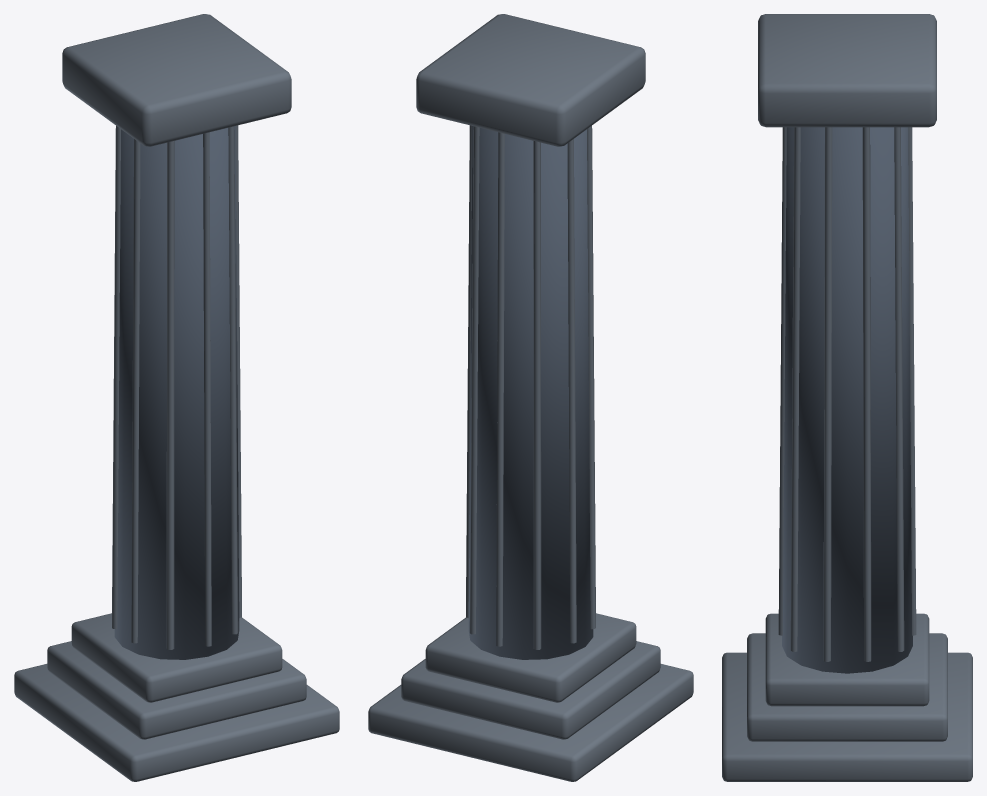
Rendered from prop-0-refined-v15.fbx.
The picture shows the model from 3 angles, left to right: view 1: azimuth 30°, elevation 25°; view 2: azimuth 150°, elevation 25°; view 3: azimuth 270°, elevation 25°; orthographic projection. The views are drawn at different scales.
Parts seen in each view (by area): view 1: FlutedPillar, Capital, SteppedPlinth, SteppedPlinth.001, SteppedPlinth.002, ColumnFlute.009, ColumnFlute, ColumnFlute.008, ColumnFlute.001, ColumnFlute.007, ColumnFlute.002; view 2: FlutedPillar, Capital, SteppedPlinth, SteppedPlinth.001, SteppedPlinth.002, ColumnFlute.006, ColumnFlute.005, ColumnFlute.007, ColumnFlute.004, ColumnFlute.008, ColumnFlute.003; view 3: FlutedPillar, Capital, SteppedPlinth, SteppedPlinth.001, SteppedPlinth.002, ColumnFlute.002, ColumnFlute.003, ColumnFlute.001, ColumnFlute.004, ColumnFlute, ColumnFlute.005.
Part boxes in pixels (x1,y1,x2,y2): FlutedPillar: (114, 126, 239, 659); Capital: (62, 14, 291, 146); SteppedPlinth: (14, 664, 339, 781); SteppedPlinth.001: (47, 641, 306, 739); SteppedPlinth.002: (71, 613, 282, 702); ColumnFlute.009: (166, 141, 174, 649); ColumnFlute: (203, 132, 211, 646); ColumnFlute.008: (131, 139, 140, 643); ColumnFlute.001: (228, 126, 238, 634); ColumnFlute.007: (112, 126, 120, 629); ColumnFlute.002: (235, 125, 241, 617); FlutedPillar: (468, 126, 593, 659); Capital: (416, 14, 645, 146); SteppedPlinth: (368, 664, 693, 781); SteppedPlinth.001: (401, 641, 660, 739); SteppedPlinth.002: (425, 613, 636, 702); ColumnFlute.006: (533, 141, 541, 649); ColumnFlute.005: (496, 132, 504, 646); ColumnFlute.007: (567, 139, 576, 643); ColumnFlute.004: (469, 126, 479, 634); ColumnFlute.008: (587, 126, 595, 629); ColumnFlute.003: (466, 125, 472, 617); FlutedPillar: (782, 127, 912, 673); Capital: (758, 14, 936, 127); SteppedPlinth: (722, 652, 972, 781); SteppedPlinth.001: (747, 633, 947, 741); SteppedPlinth.002: (765, 613, 929, 706); ColumnFlute.002: (823, 127, 832, 661); ColumnFlute.003: (862, 127, 871, 661); ColumnFlute.001: (790, 127, 800, 651); ColumnFlute.004: (894, 127, 904, 651); ColumnFlute: (778, 127, 786, 635); ColumnFlute.005: (908, 127, 916, 635).
Bounding box in the file's own units: 115 × 345 × 115.
